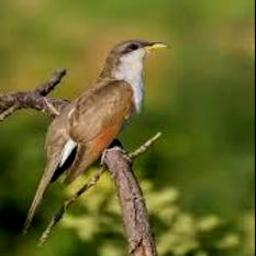Cuckoo: (23, 40, 169, 234)
